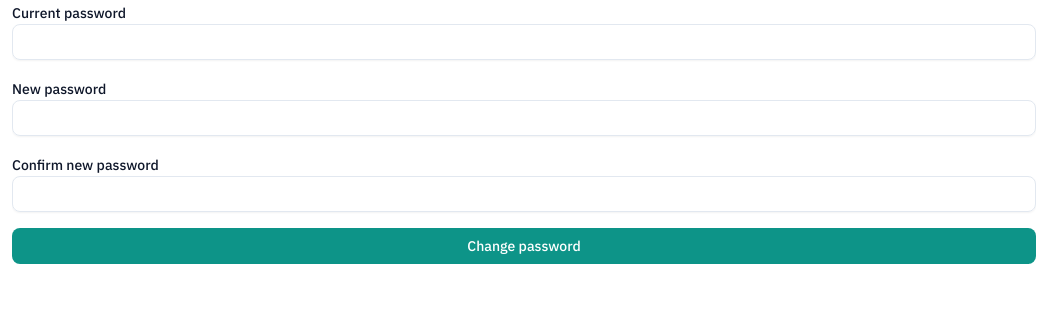
Test case: ChangePasswordForm › does not change the password when the current one is wrong
Type "wrong" into the password field labelled "Current password" at (524, 42), box left=12, top=24, right=1036, bottom=60
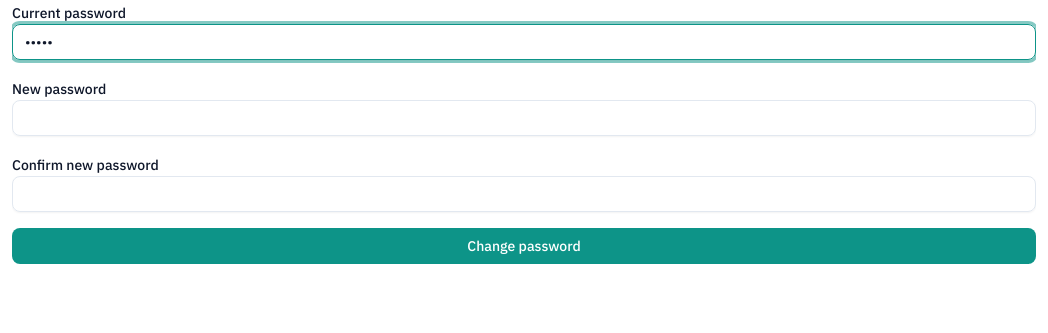
Type "brand-new-password" into the password field labelled "New password" at (524, 118), box left=12, top=100, right=1036, bottom=136
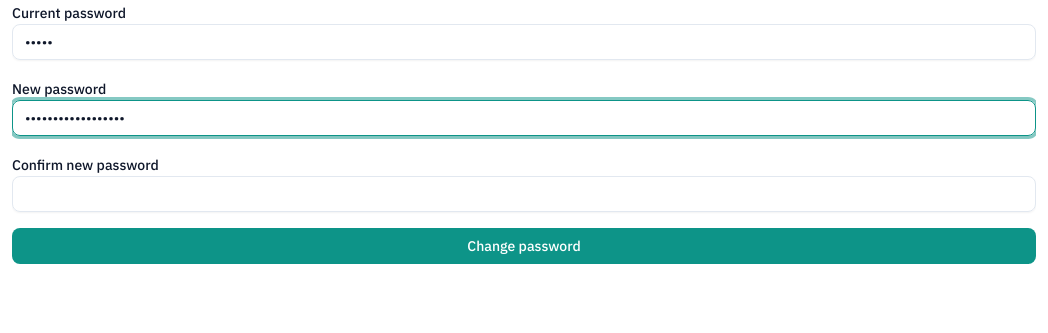
Type "brand-new-password" into the password field labelled "Confirm new password" at (524, 194), box left=12, top=176, right=1036, bottom=212
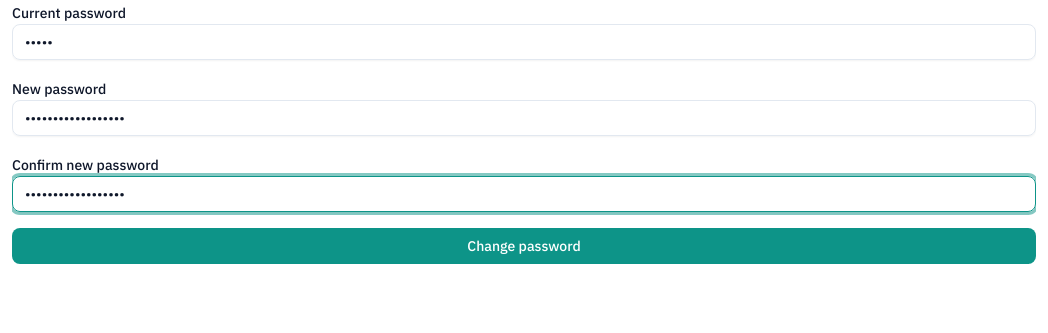
Click the button "Change password" at (524, 246), box left=12, top=228, right=1036, bottom=264
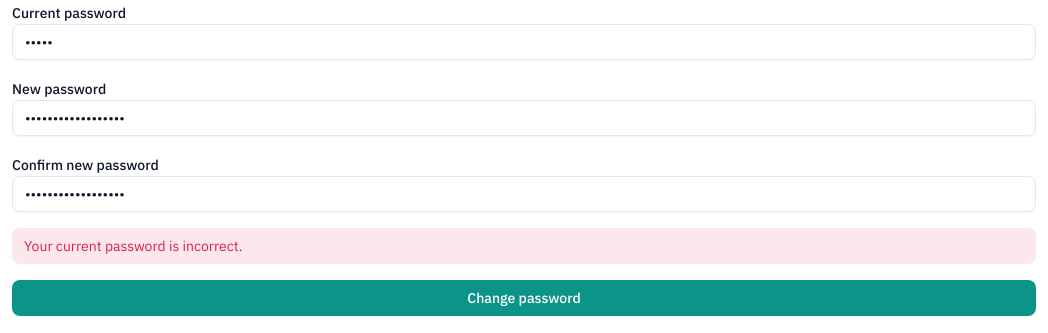
Check: the message shows "current password is incorrect", box left=24, top=237, right=242, bottom=255
